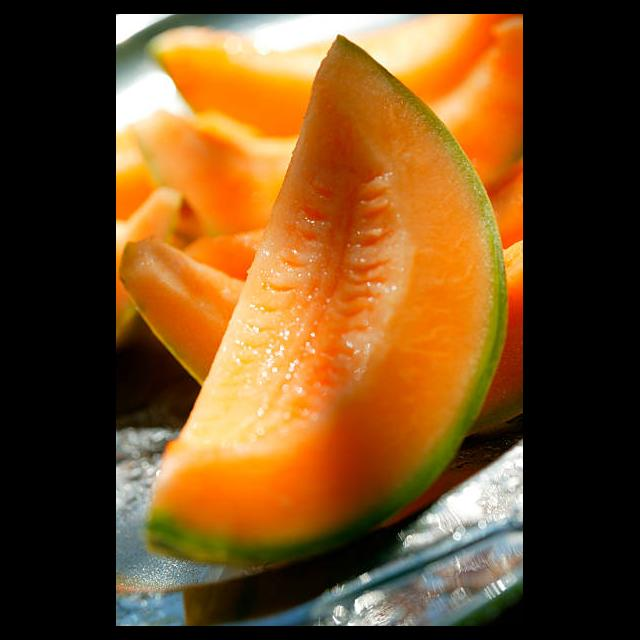Hami Melon: (145, 32, 509, 567)
